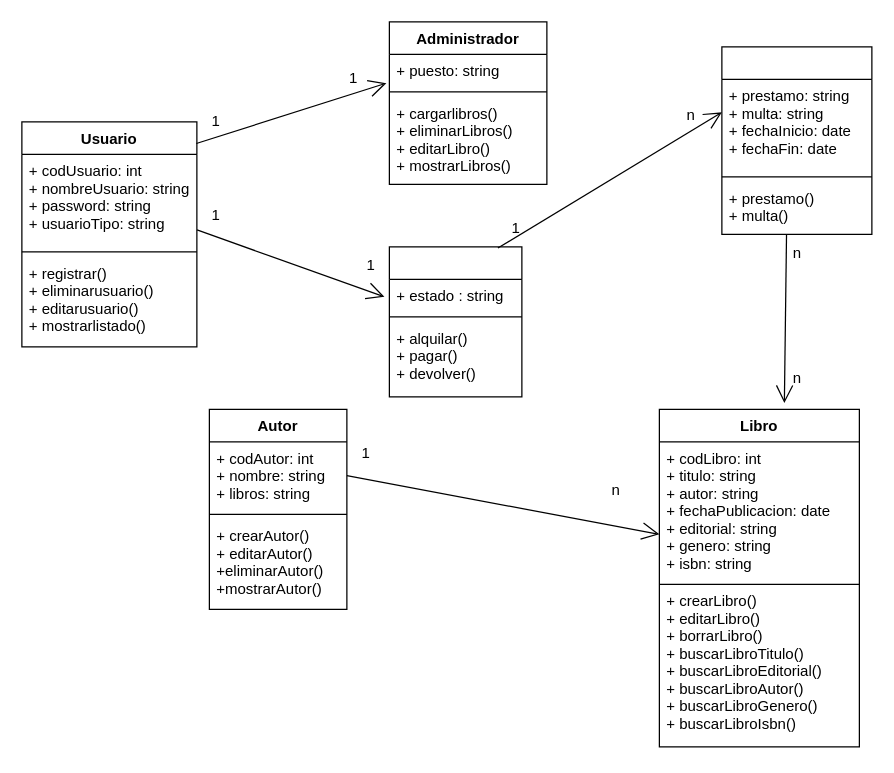
This 894x773 diagram has some shape labels left out. The box of each missing label's shape, as (x1, y1, x2, y2) in pixels:
Operacion: (721, 46, 872, 234)
Socio: (388, 246, 522, 397)
